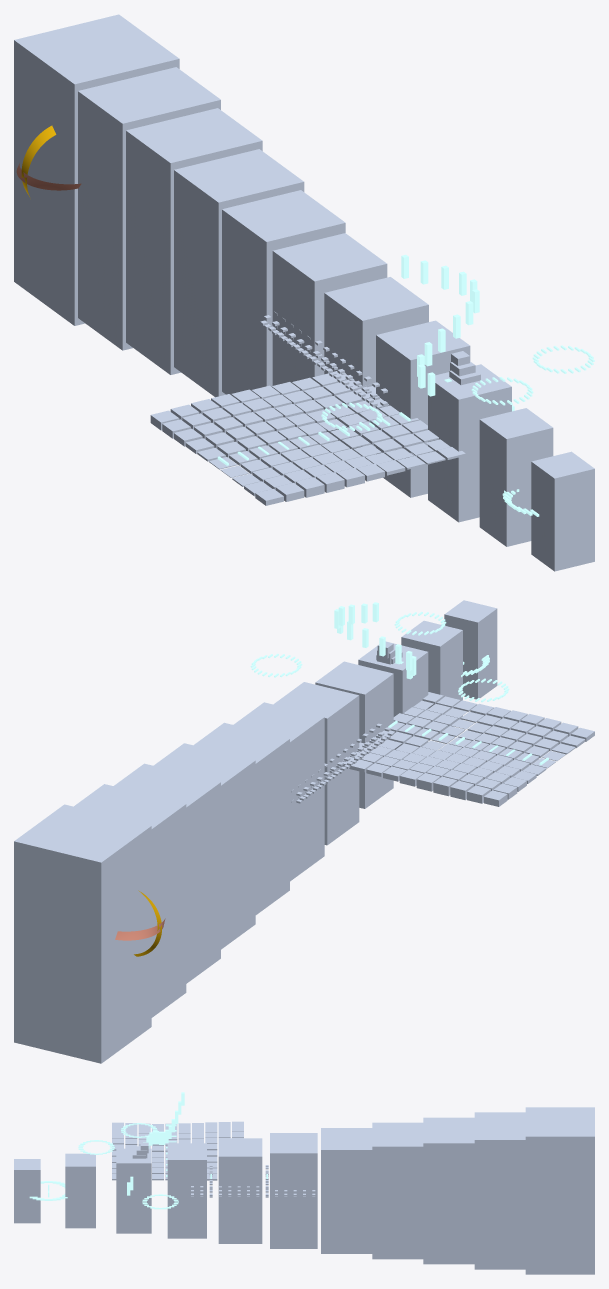
The model's file is resonance_cathedral_with_golden_polyhedron_v1.glb.
3 views of the same model, one above another, from view 1: azimuth 30°, elevation 25°; view 2: azimuth 150°, elevation 25°; view 3: azimuth 270°, elevation 25° (orthographic). The views are drawn at different scales.
Visible parts, largest first — view 1: Nave_10_HQ0ME3, Nave_09_HQ04Ps, Nave_08_HQ0AtC, Nave_07_HQ3YgY, Nave_06_HQ1eMC, Nave_05_HQ0nwd, Nave_02_HQ0zLj, Nave_01_HQ1ozL, Nave_04_HQ1IoK, Nave_00_HQ1OfN, Nave_03_HQ15Hp; view 2: Nave_10_HQ0ME3, Nave_09_HQ04Ps, Nave_08_HQ0AtC, Nave_07_HQ3YgY, Nave_06_HQ1eMC, Nave_05_HQ0nwd, Nave_04_HQ1IoK, Nave_03_HQ15Hp, Nave_00_HQ1OfN, Nave_01_HQ1ozL, Nave_02_HQ0zLj; view 3: Nave_10_HQ0ME3, Nave_09_HQ04Ps, Nave_08_HQ0AtC, Nave_07_HQ3YgY, Nave_06_HQ1eMC, Nave_05_HQ0nwd, Nave_04_HQ1IoK, Nave_03_HQ15Hp, Nave_02_HQ0zLj, Nave_01_HQ1ozL, Nave_00_HQ1OfN.
Part boxes in pixels (bbox=[...]): Nave_10_HQ0ME3: bbox=[14, 14, 179, 325]; Nave_09_HQ04Ps: bbox=[78, 67, 220, 350]; Nave_08_HQ0AtC: bbox=[126, 108, 262, 374]; Nave_07_HQ3YgY: bbox=[174, 149, 304, 397]; Nave_06_HQ1eMC: bbox=[222, 190, 345, 394]; Nave_05_HQ0nwd: bbox=[272, 233, 387, 445]; Nave_02_HQ0zLj: bbox=[428, 364, 511, 522]; Nave_01_HQ1ozL: bbox=[479, 408, 553, 546]; Nave_04_HQ1IoK: bbox=[324, 277, 428, 457]; Nave_00_HQ1OfN: bbox=[531, 451, 594, 571]; Nave_03_HQ15Hp: bbox=[376, 320, 470, 497]; Nave_10_HQ0ME3: bbox=[14, 804, 151, 1063]; Nave_09_HQ04Ps: bbox=[74, 784, 186, 1017]; Nave_08_HQ0AtC: bbox=[113, 763, 220, 983]; Nave_07_HQ3YgY: bbox=[153, 743, 255, 949]; Nave_06_HQ1eMC: bbox=[194, 722, 289, 914]; Nave_05_HQ0nwd: bbox=[233, 702, 324, 881]; Nave_04_HQ1IoK: bbox=[273, 682, 359, 845]; Nave_03_HQ15Hp: bbox=[315, 661, 393, 808]; Nave_00_HQ1OfN: bbox=[444, 600, 497, 699]; Nave_01_HQ1ozL: bbox=[401, 620, 462, 733]; Nave_02_HQ0zLj: bbox=[358, 641, 428, 752]; Nave_10_HQ0ME3: bbox=[525, 1107, 594, 1274]; Nave_09_HQ04Ps: bbox=[474, 1112, 525, 1269]; Nave_08_HQ0AtC: bbox=[423, 1117, 474, 1264]; Nave_07_HQ3YgY: bbox=[372, 1122, 423, 1259]; Nave_06_HQ1eMC: bbox=[321, 1128, 372, 1253]; Nave_05_HQ0nwd: bbox=[270, 1133, 317, 1248]; Nave_04_HQ1IoK: bbox=[218, 1138, 262, 1243]; Nave_03_HQ15Hp: bbox=[167, 1143, 206, 1238]; Nave_02_HQ0zLj: bbox=[116, 1148, 151, 1233]; Nave_01_HQ1ozL: bbox=[65, 1153, 95, 1228]; Nave_00_HQ1OfN: bbox=[14, 1159, 40, 1223].
Bounding box in the file's own units: 9.04 × 6.67 × 21.8.
